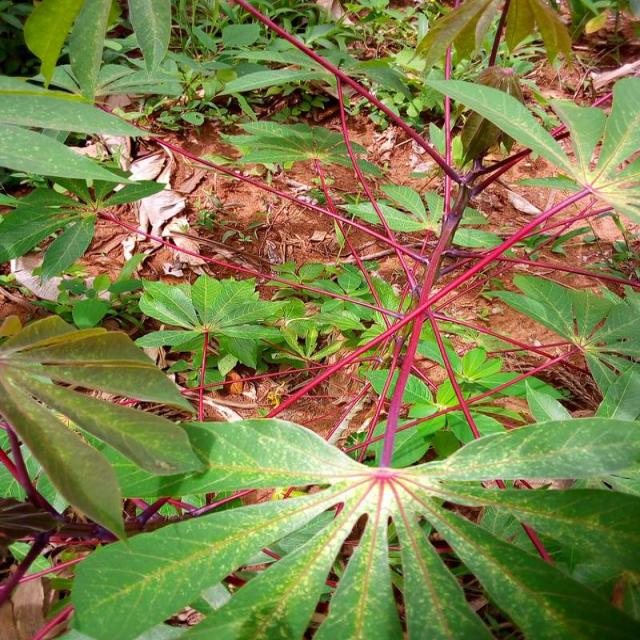cassava leaf: (1, 1, 638, 638), (425, 75, 578, 180)
